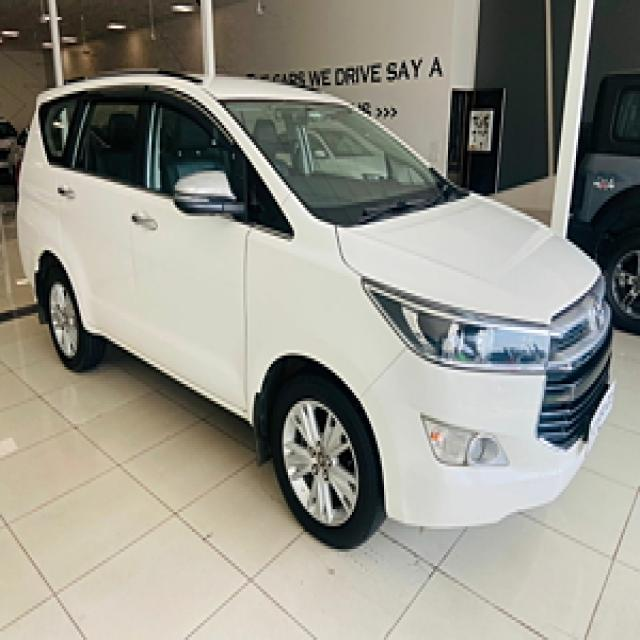light_vehicle: (14, 68, 617, 552)
